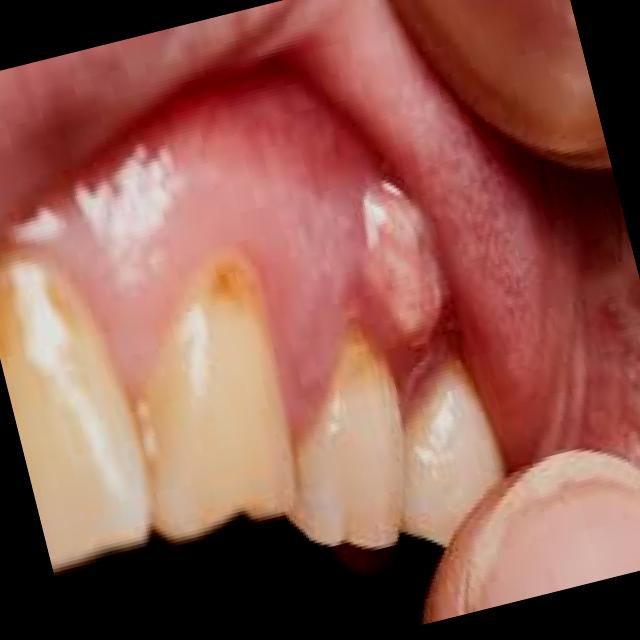abscess: (306, 134, 494, 388)
